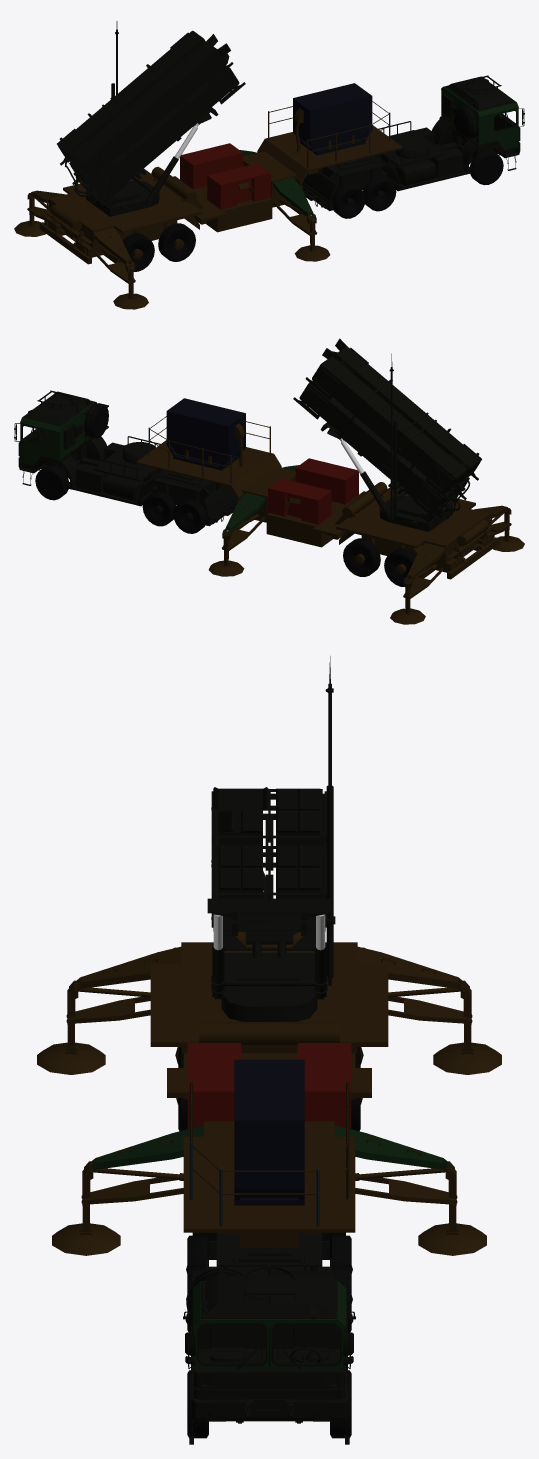
Rendered from pac3.obj.
The picture shows the model from 3 angles, top to bottom: view 1: azimuth 30°, elevation 25°; view 2: azimuth 150°, elevation 25°; view 3: azimuth 270°, elevation 25°; orthographic projection. The views are drawn at different scales.
Visible parts, largest first — view 1: PAC3.432, PAC3.312, PAC3.469, PAC3.305, PAC3.468, PAC3.409, PAC3.401, PAC3.361, PAC3.369, PAC3.092, PAC3.294, PAC3.286 (+26 smaller); view 2: PAC3.468, PAC3.312, PAC3.465, PAC3.305, PAC3.432, PAC3.409, PAC3.361, PAC3.401, PAC3.092, PAC3.369, PAC3.405, PAC3.285 (+29 smaller); view 3: PAC3.305, PAC3.409, PAC3.312, PAC3.061, PAC3.009, PAC3.428, PAC3.361, PAC3.401, PAC3.150, PAC3.290, PAC3.468, PAC3.092 (+24 smaller).
Boxes of the visible parts, bbox=[...] form: PAC3.432: bbox=[72, 41, 226, 177]; PAC3.312: bbox=[293, 83, 372, 155]; PAC3.469: bbox=[84, 65, 239, 197]; PAC3.305: bbox=[257, 125, 402, 214]; PAC3.468: bbox=[58, 30, 205, 167]; PAC3.409: bbox=[63, 168, 202, 233]; PAC3.401: bbox=[207, 163, 270, 209]; PAC3.361: bbox=[180, 143, 243, 189]; PAC3.369: bbox=[44, 193, 114, 257]; PAC3.092: bbox=[441, 86, 518, 149]; PAC3.294: bbox=[206, 198, 272, 232]; PAC3.286: bbox=[158, 223, 195, 261]; PAC3.468: bbox=[312, 356, 466, 493]; PAC3.312: bbox=[166, 398, 245, 470]; PAC3.465: bbox=[299, 380, 454, 512]; PAC3.305: bbox=[136, 440, 281, 529]; PAC3.432: bbox=[334, 346, 480, 482]; PAC3.409: bbox=[336, 487, 475, 548]; PAC3.361: bbox=[268, 478, 331, 524]; PAC3.401: bbox=[295, 458, 358, 504]; PAC3.092: bbox=[20, 401, 97, 464]; PAC3.369: bbox=[424, 508, 494, 572]; PAC3.405: bbox=[266, 513, 332, 547]; PAC3.285: bbox=[343, 538, 380, 576]; PAC3.305: bbox=[183, 1136, 355, 1247]; PAC3.409: bbox=[150, 963, 388, 1053]; PAC3.312: bbox=[234, 1059, 304, 1205]; PAC3.061: bbox=[193, 1368, 345, 1399]; PAC3.009: bbox=[205, 1275, 333, 1315]; PAC3.428: bbox=[221, 952, 317, 1021]; PAC3.361: bbox=[297, 1043, 351, 1129]; PAC3.401: bbox=[187, 1043, 241, 1129]; PAC3.150: bbox=[191, 1398, 347, 1421]; PAC3.290: bbox=[199, 1022, 339, 1046]; PAC3.468: bbox=[276, 788, 320, 845]; PAC3.092: bbox=[192, 1281, 346, 1386].
Bounding box in the file's own units: 22.57 × 11.07 × 10.24.
